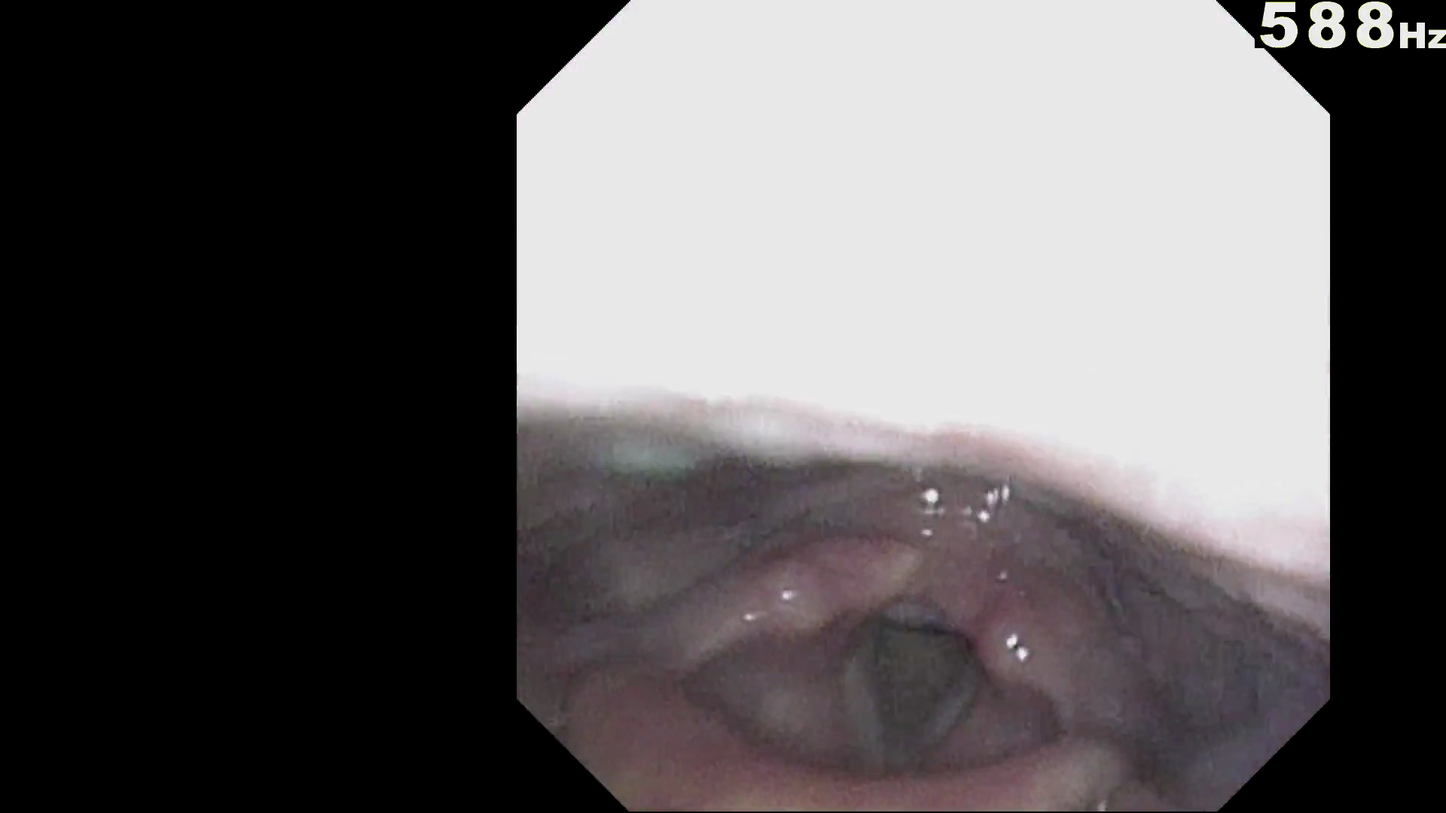epiglottis: (596, 564, 1137, 754)
trachea: (855, 596, 980, 750)
